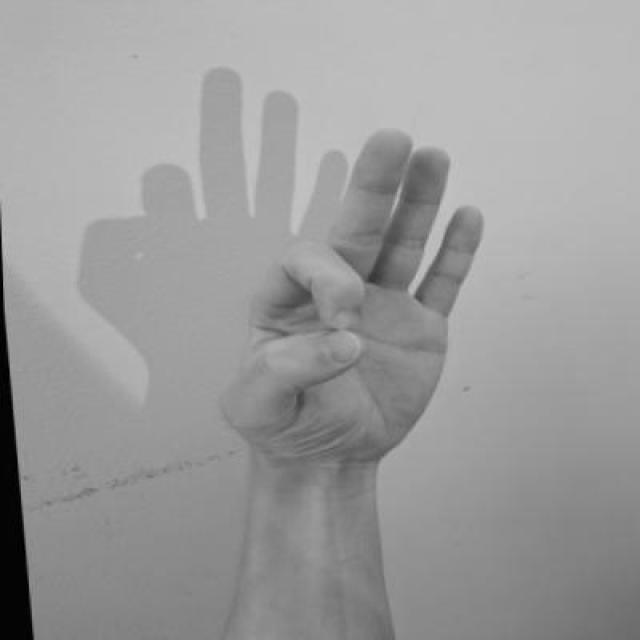F: (184, 114, 507, 476)
